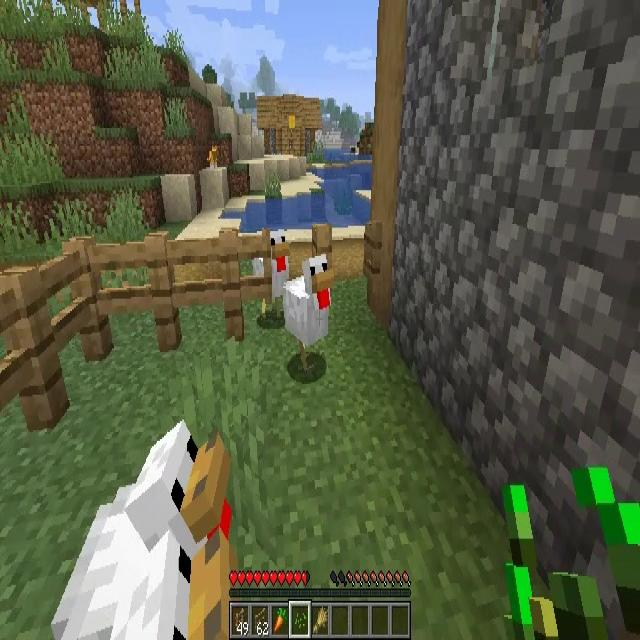duck: (66, 417, 232, 639), (284, 255, 331, 369), (252, 228, 290, 320)
